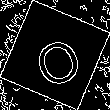O_N: (26, 24, 84, 86)
